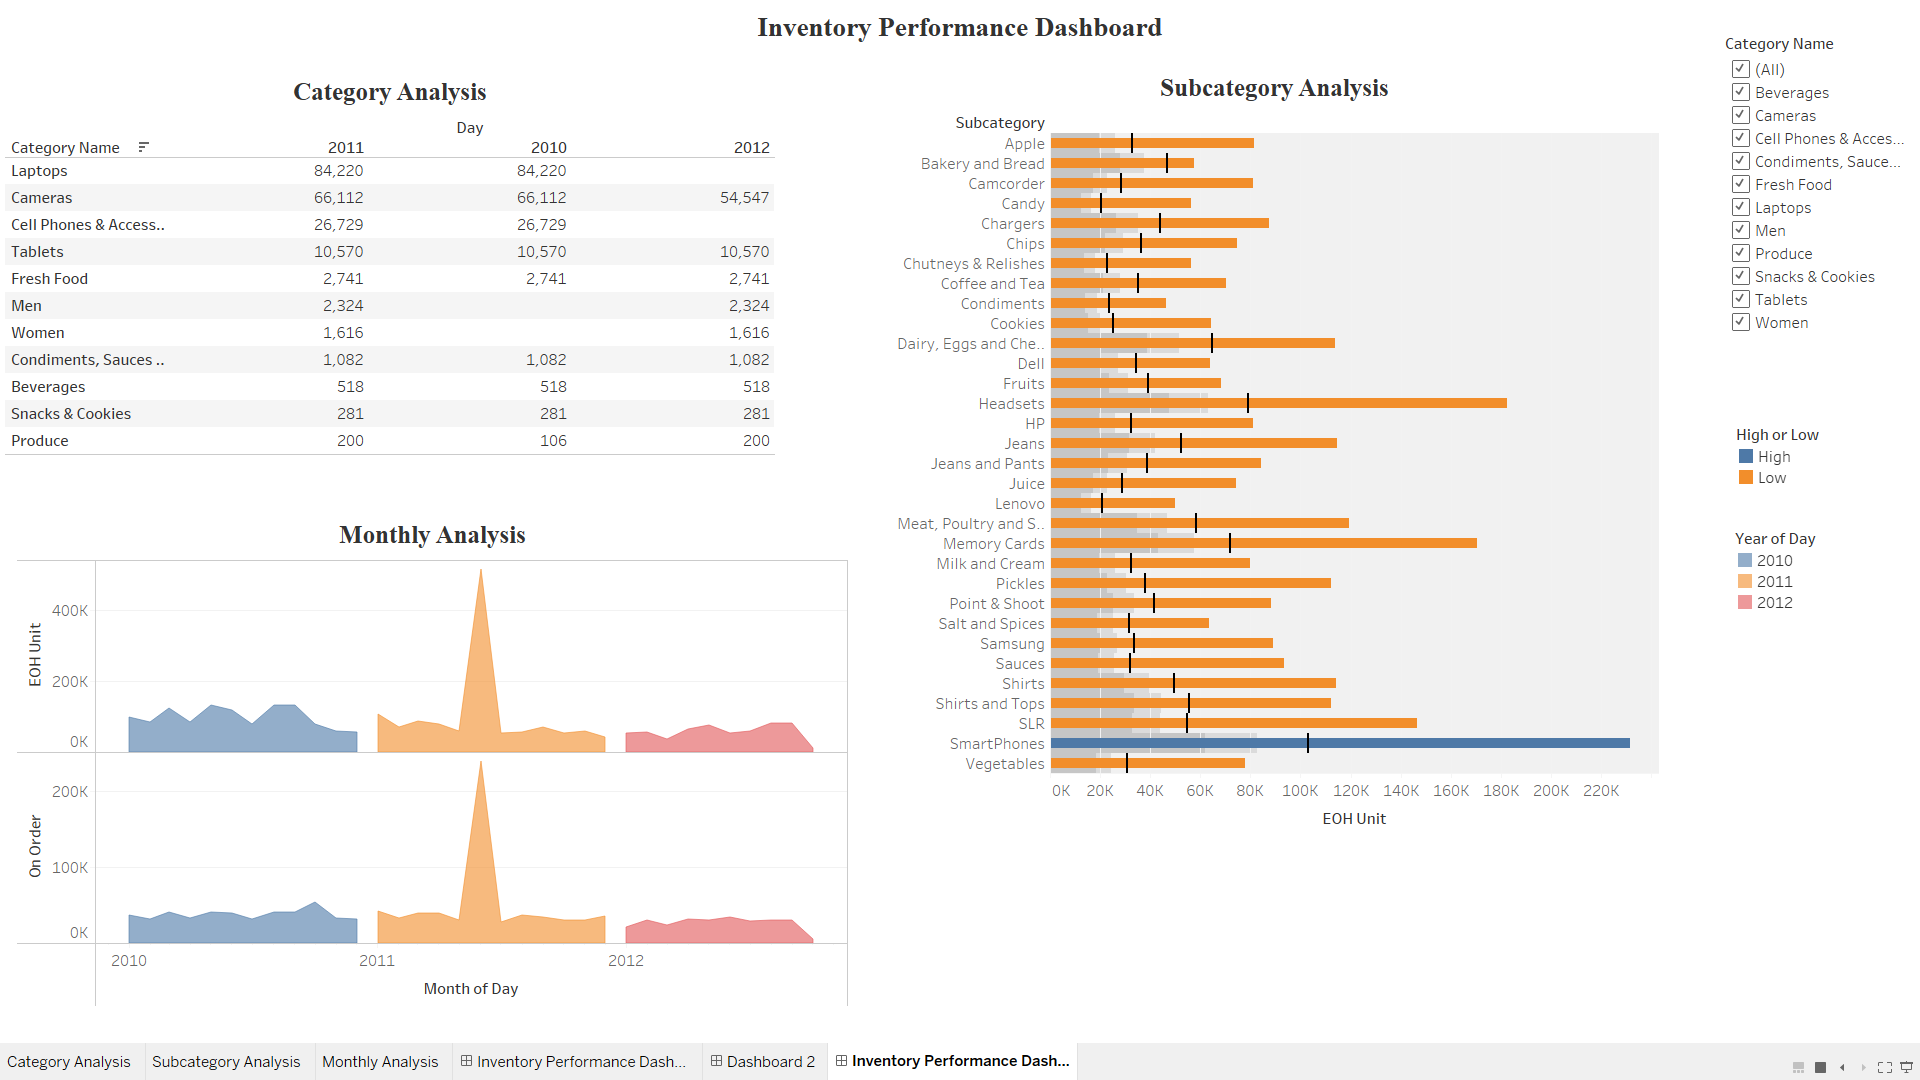

What the dashboard file says about the page in this screenshot:
{"tool":"tableau","page":{"name":"Inventory Performance Dashboard.","canvas":[1000,1000],"units":"permille","ordinal":2},"visuals":[{"type":"title","box":[6.4,9.4,987.3,44.6]},{"type":"filter","title":"Subcategory Analysis","param":"[federated.0sxjarl16369lm11kvok61fgfx3p].[none:CATEGORY_NAME:nk]","box":[898.6,31.7,96.6,357.2]},{"type":"worksheet","title":"Subcategory Analysis","mark":"Automatic","rows":["SUBCATEGORY"],"cols":["EOH_Unit"],"box":[463.5,67,400.7,933]},{"type":"worksheet","title":"Category Analysis","mark":"Automatic","rows":["CATEGORY_NAME"],"cols":["Day"],"box":[2.4,70.5,443,445.4]},{"type":"legend","title":"Subcategory Analysis","param":"[federated.0sxjarl16369lm11kvok61fgfx3p].[usr:Calculation_480759300680183808:nk]","box":[904,406.6,84.5,75.2]},{"type":"worksheet","title":"Monthly Analysis","mark":"Area","rows":["EOH_Unit","On_Order"],"cols":["Day"],"box":[9.1,495.9,432.7,470]},{"type":"legend","title":"Monthly Analysis","param":"[federated.0sxjarl16369lm11kvok61fgfx3p].[yr:Day:ok]","box":[903.4,506.5,84.5,99.9]}]}

Visuals, with their boxes on the dashboard's canvas, which has no fixed pixel size, in thousandths of its width and height (x1, y1, x2, y2). These are canvas units, not pixel positions in the 1920x1080 screenshot, which may show the page scaled, cropped or inside an application window:
title: (x1=6, y1=9, x2=994, y2=54)
"Subcategory Analysis" filter: (x1=899, y1=32, x2=995, y2=389)
"Subcategory Analysis" worksheet: (x1=464, y1=67, x2=864, y2=1000)
"Category Analysis" worksheet: (x1=2, y1=70, x2=445, y2=516)
"Subcategory Analysis" legend: (x1=904, y1=407, x2=988, y2=482)
"Monthly Analysis" worksheet (Area marks): (x1=9, y1=496, x2=442, y2=966)
"Monthly Analysis" legend: (x1=903, y1=506, x2=988, y2=606)
